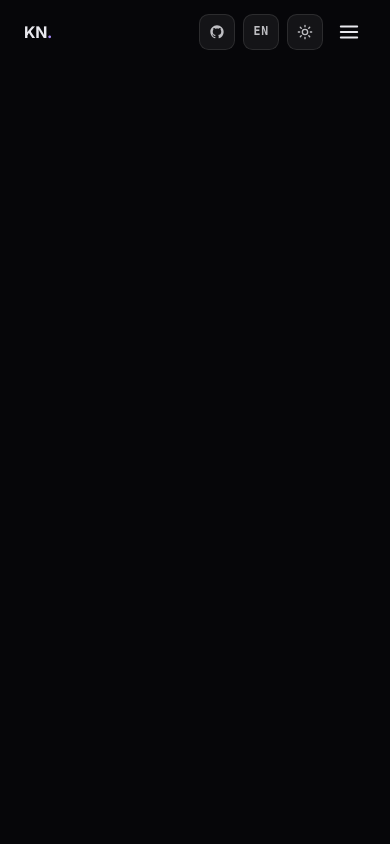
Test: Header › ouvre le menu mobile au clic du hamburger
What coordinates should you click on to do the following:
click the button named "ouvrir le menu"
I would click on:
 (349, 32)
Its box is [331,14,366,49].
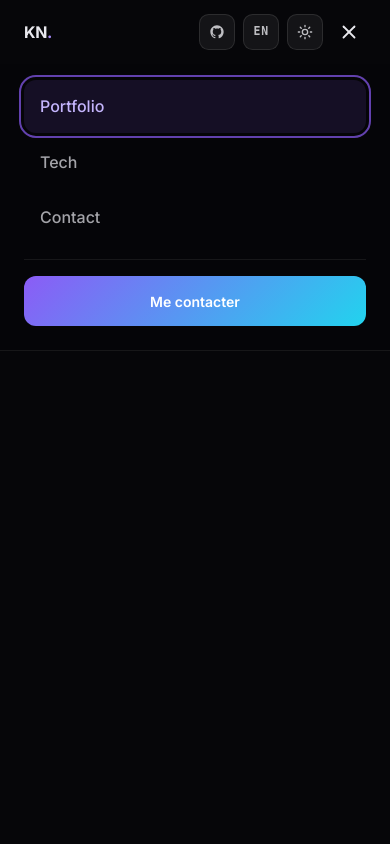
Result: the button named "fermer le menu" is shown at [331,14,366,49]
